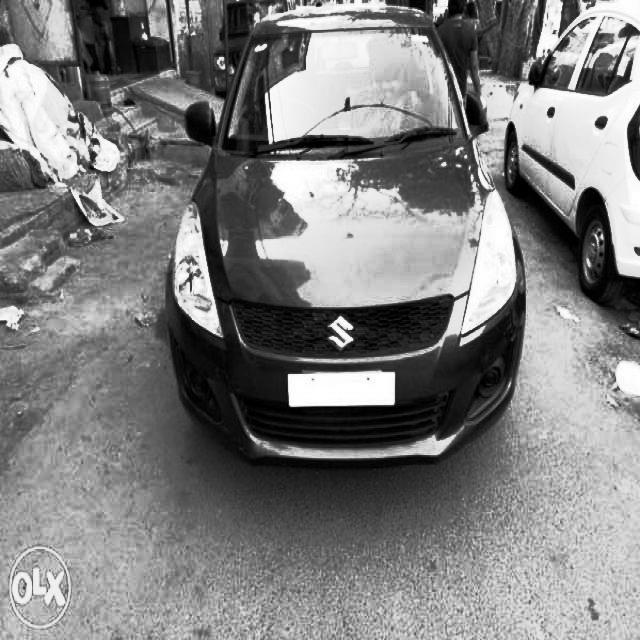Car: (173, 14, 519, 522), (529, 30, 639, 308)
